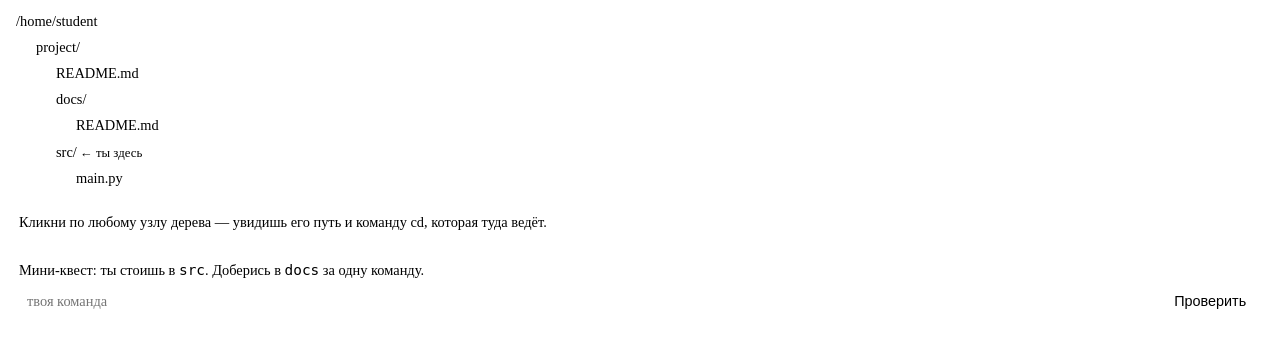
Test case: клик по текущему каталогу: «ты уже здесь»
The image size is (1263, 349).
What coordinates should you click on to do the following:
click the button "src/ ← ты здесь"
I would click on:
 (99, 152)
Its box is [47, 140, 151, 164].
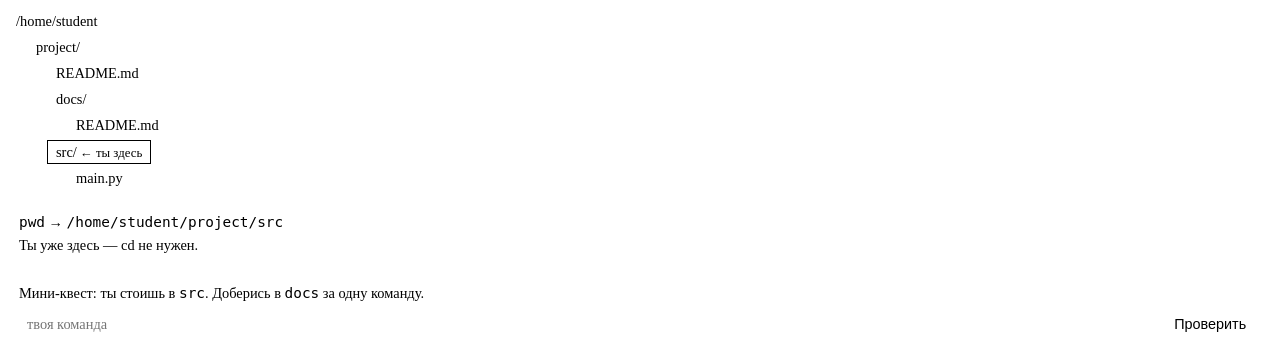
Check: the text "Ты уже здесь — cd не нужен." is shown, box [19, 237, 198, 253]
